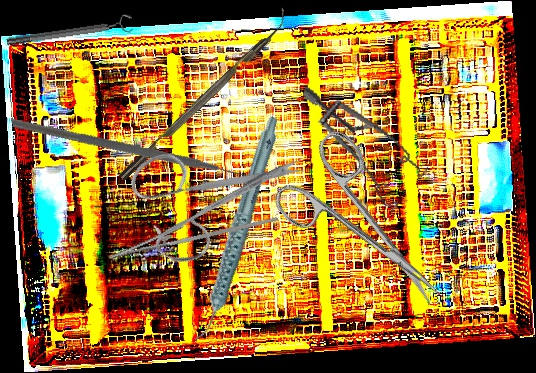Chopper: (10, 50, 255, 265), (110, 6, 296, 182)
Fixation Ring: (5, 13, 134, 51)
Handpiece: (150, 114, 321, 344)
Iris Scissors: (263, 125, 470, 336), (105, 87, 310, 295)
Needle Holder: (104, 184, 279, 280)
Speculum: (278, 86, 441, 218)
